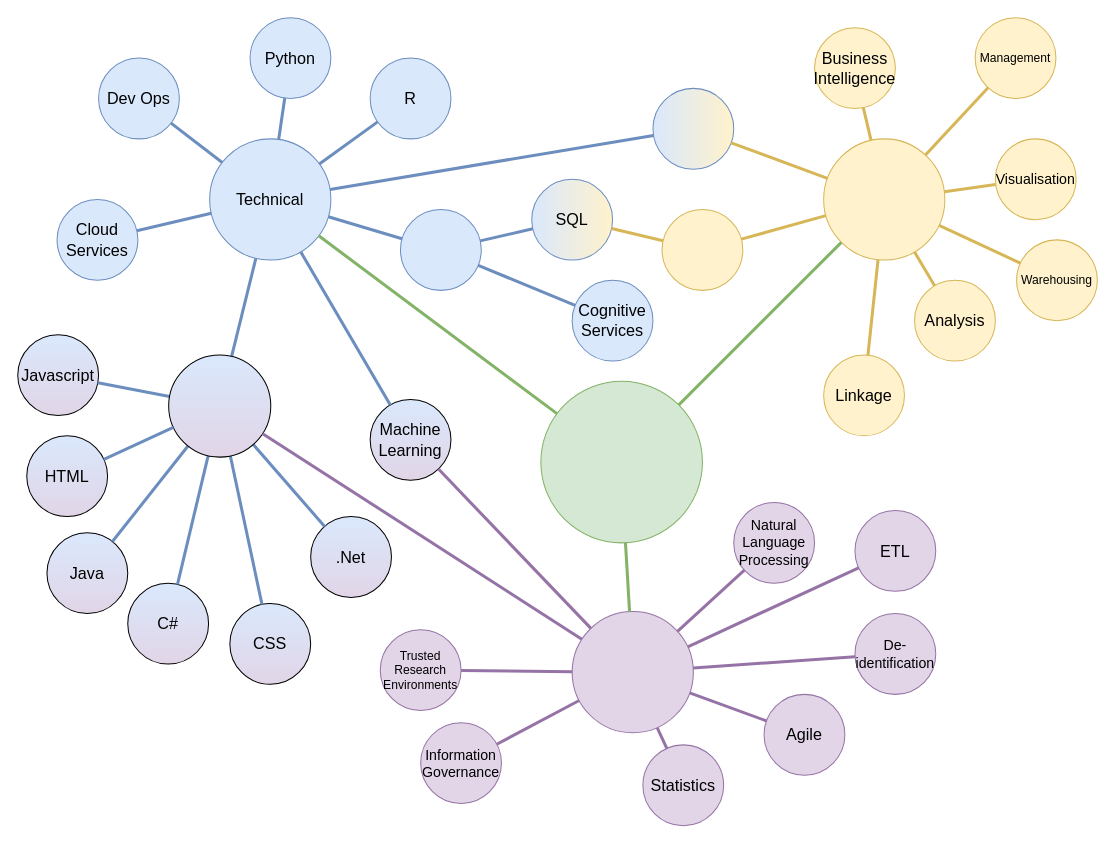
This 1115x843 diagram has some shape labels left out. Each missing label, with the centre of its shape:
"Apache Spark" goes at [693,128].
"Azure" goes at [440,249].
"Data" goes at [884,199].
"Data Analytics Team" goes at [621,461].
"Method" goes at [632,672].
"RDMS" goes at [702,249].
"Web Development" goes at [219,405].
